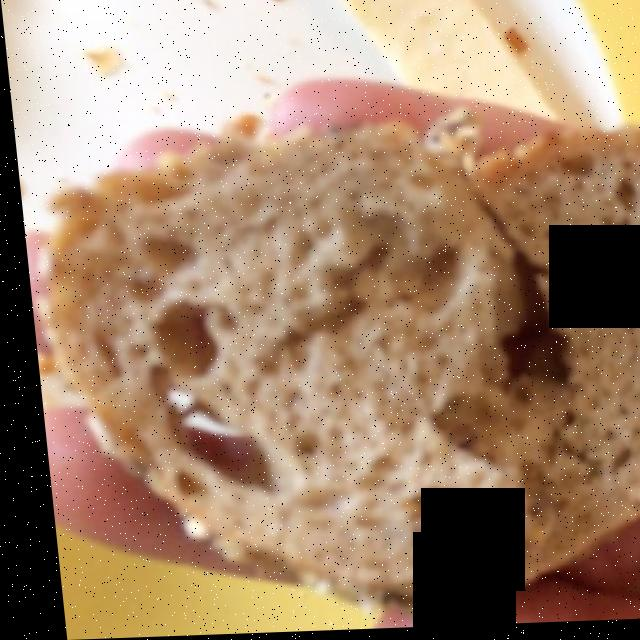bread-5-grain: (35, 124, 640, 611)
